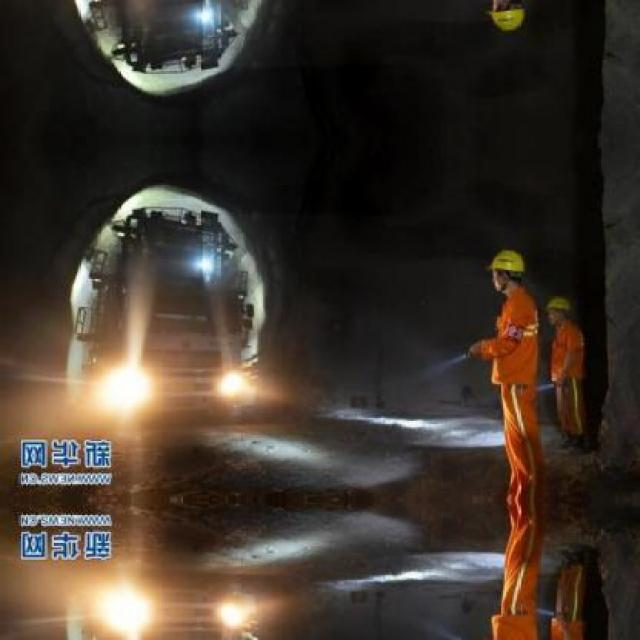Reflective-Jacket: (486, 287, 545, 390), (546, 321, 592, 387)
Safety-Helmet: (480, 244, 534, 285), (541, 293, 577, 319)
